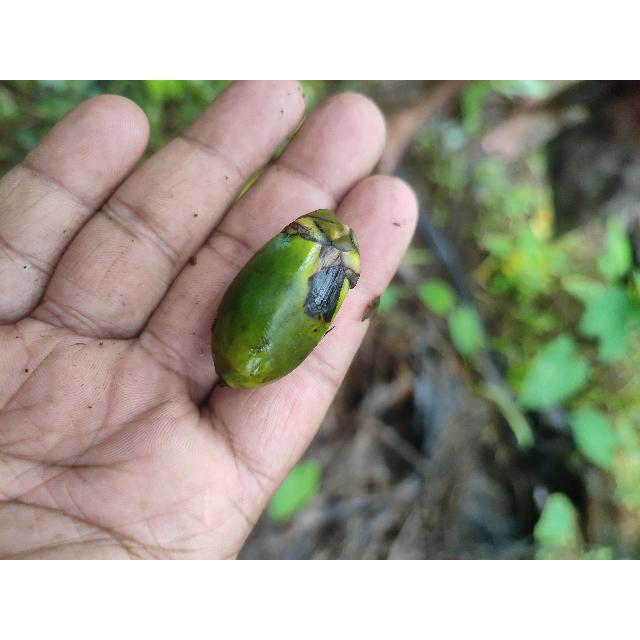good: (209, 210, 362, 391)
